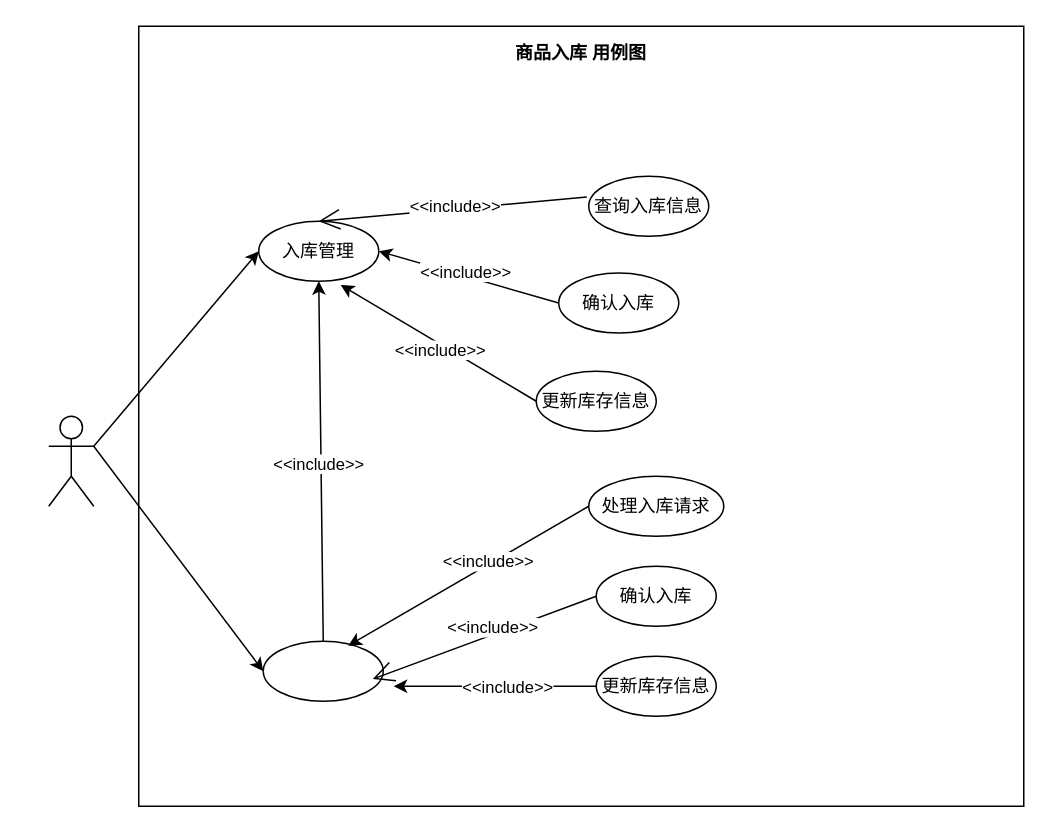
The diagram is 1050 pixels wide and 833 high, and some of its shapes have lost their labels. The shapes that lost their labels are listed below. From the top down, each one's box as (x1, y1, x2, y2) in pixels, then its label:
(47, 415, 94, 506): 管理员商品
(262, 640, 383, 701): 入库请求处理
